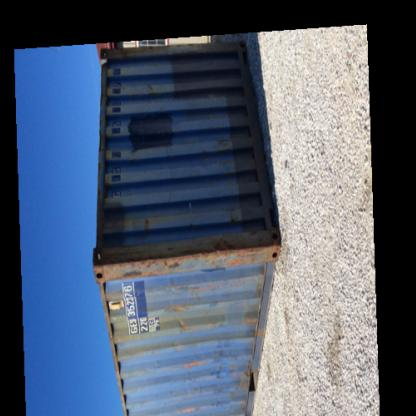Damage: (105, 240, 273, 276), (210, 342, 228, 410), (121, 211, 155, 238), (161, 282, 214, 298), (170, 357, 209, 375), (134, 78, 166, 98), (240, 297, 258, 330), (211, 130, 233, 154), (236, 352, 252, 384), (120, 364, 148, 380), (161, 302, 192, 316), (168, 402, 206, 412), (223, 206, 238, 228), (170, 318, 188, 336), (204, 296, 226, 310), (214, 313, 229, 332)
